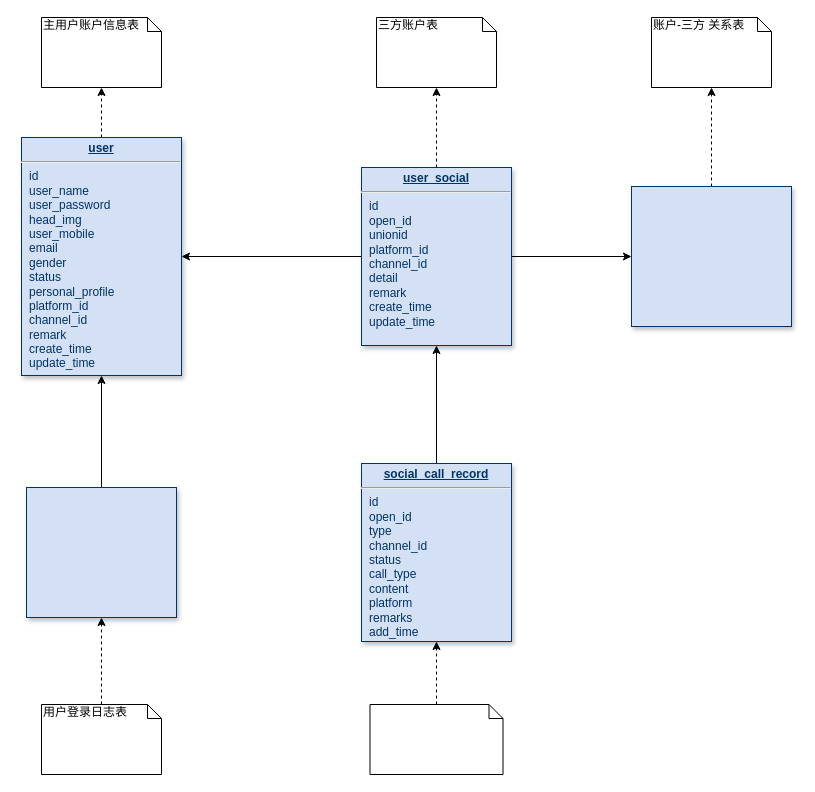
Image size: 815x792. Some labels were removed from this diagram. The centre of each missing label's shape, as x and y in pixels:
bing_social_user id user_id bing_social_id type remark create_time update_time: point (712, 258)
user_login_log id user_id platform_id channel_id add_ip create_time: point (102, 553)
三方账户登录记录表: point (436, 739)
